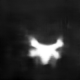plane: (27, 35, 65, 66)
